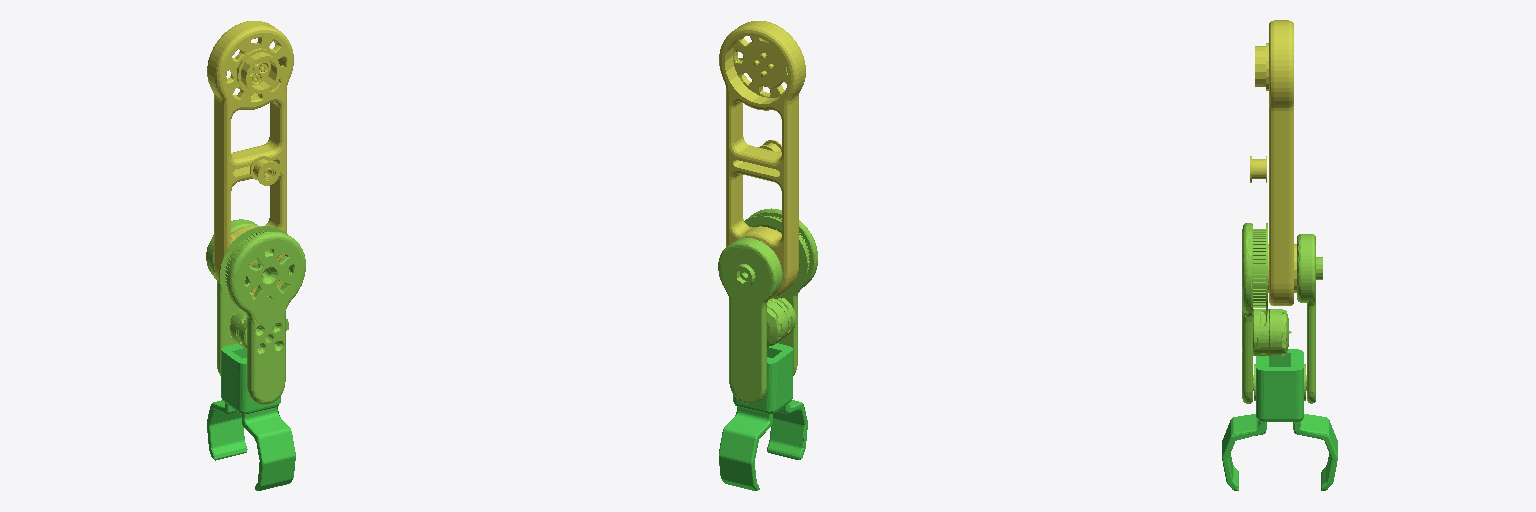
URDF robot description (hextilt_flying_arm_5):
<?xml version="1.0" encoding="utf-8"?>
<robot name="hextilt_flying_arm_5">
  <link name="hextilt__base_link">
    <inertial>
      <origin xyz="-0.0054412 0.003948 -0.0087555" />
      <mass value="1.0194" />
      <inertia ixx="0.0015891"
        ixy="-3.0072E-06"
        ixz="-4.0534E-07"
        iyy="0.0015947"
        iyz="2.85E-06"
        izz="0.0029281" />
    </inertial>
    <visual>
      <origin xyz="0 0 0" rpy="0 0 0" />
      <geometry>
        <mesh filename="package://hidro_robots/robots/hextilt_flying_arm_5/meshes/hextilt.dae" />
      </geometry>
      <material name="">
        <color rgba="0.8471 0.6078 0.3412 1" />
      </material>
    </visual>
    <collision>
      <origin xyz="0 0 0" rpy="0 0 0" />
      <geometry>
        <mesh filename="package://hidro_robots/robots/hextilt_flying_arm_5/meshes/hextilt.dae" />
      </geometry>
    </collision>
  </link>

  <link name="flying_arm_5__base_link">
    <inertial>
      <origin xyz="5.4471E-05 0.00055544 0.0045971" rpy="0 0 0" />
      <mass value="0.27973" />
      <inertia ixx="0.00010284" ixy="5.704E-10" ixz="7.6592E-09" iyy="7.9509E-05" iyz="5.7105E-10" izz="9.2151E-05" />
    </inertial>
    <visual>
      <origin xyz="0 0 0" rpy="0 0 0" />
      <geometry>
        <mesh filename="package://hidro_robots/robots/hextilt_flying_arm_5/meshes/base_link.dae" />
      </geometry>
      <material name="">
        <color rgba="0.8471 0.6078 0.3412 1" />
      </material>
    </visual>
    <collision>
      <origin xyz="0 0 0" rpy="0 0 0" />
      <geometry>
        <mesh filename="package://hidro_robots/robots/hextilt_flying_arm_5/meshes/base_link.dae" />
      </geometry>
    </collision>
  </link>

  <joint name="flying_arm_5__j_base_link" type="fixed">
    <origin xyz="0.0 0 -0.0516" rpy="0 0 0" />
    <parent link="hextilt__base_link" />
    <child link="flying_arm_5__base_link" />
    <axis xyz="0 0 0" />
  </joint>

  <link name="flying_arm_5__link_1">
    <inertial>
      <origin xyz="0.097289 5.2467E-05 -0.012147" rpy="0 0 0" />
      <mass value="0.12284" />
      <inertia ixx="2.3846E-05" ixy="-5.0883E-13" ixz="3.5276E-06" iyy="0.00021635" iyz="-1.2916E-12" izz="0.00023624" />
    </inertial>
    <visual>
      <origin xyz="0 0 0" rpy="0 0 0" />
      <geometry>
        <mesh filename="package://hidro_robots/robots/hextilt_flying_arm_5/meshes/link_1.dae" />
      </geometry>
      <material name="">
        <color rgba="0.8314 0.8471 0.3412 1" />
      </material>
    </visual>
    <collision>
      <origin xyz="0 0 0" rpy="0 0 0" />
      <geometry>
        <mesh filename="package://hidro_robots/robots/hextilt_flying_arm_5/meshes/link_1.dae" />
      </geometry>
    </collision>
  </link>

  <joint name="flying_arm_5__j_base_link_link_1" type="revolute">
    <origin xyz="0 0 0" rpy="1.5708 1.5708 0" />
    <parent link="flying_arm_5__base_link" />
    <child link="flying_arm_5__link_1" />
    <axis xyz="0 0 1" />
    <limit effort="1" lower="-1.6707963267948966" upper="1.6707963267948966" velocity="10000" />
    <dynamics damping="0.1" friction="0.1" />
  </joint>

  <link name="flying_arm_5__link_2">
    <inertial>
      <origin xyz="0.043238 2.4308E-05 -0.0087926" rpy="0 0 0" />
      <mass value="0.11474" />
      <inertia ixx="1.174E-05" ixy="1.3294E-09" ixz="-2.0499E-06" iyy="4.7747E-05" iyz="-1.6102E-08" izz="5.2344E-05" />
    </inertial>
    <visual>
      <origin xyz="0 0 0" rpy="0 0 0" />
      <geometry>
        <mesh filename="package://hidro_robots/robots/hextilt_flying_arm_5/meshes/link_2.dae" />
      </geometry>
      <material name="">
        <color rgba="0.5804 0.8471 0.3412 1"/>
      </material>
    </visual>
    <collision>
      <origin xyz="0 0 0" rpy="0 0 0" />
      <geometry>
        <mesh filename="package://hidro_robots/robots/hextilt_flying_arm_5/meshes/link_2.dae" />
      </geometry>
    </collision>
  </link>

  <joint name="flying_arm_5__j_link_1_link_2" type="revolute">
    <origin xyz="0.132 0 0" rpy="0 0 0" />
    <parent link="flying_arm_5__link_1" />
    <child link="flying_arm_5__link_2" />
    <axis xyz="0 0 1" />
    <limit effort="1" lower="-1.6707963267948966" upper="1.6707963267948966" velocity="10000" />
    <dynamics damping="0.1" friction="0.1" />
  </joint>

  <link name="flying_arm_5__link_3">
    <inertial>
      <origin xyz="0.00020827 -0.0031223 -0.011966" rpy="0 0 0" />
      <mass value="0.068772" />
      <inertia ixx="6.8293E-06" ixy="4.2309E-08" ixz="1.548E-09" iyy="7.2432E-06" iyz="1.6138E-08" izz="7.1043E-06" />
    </inertial>
    <visual>
      <origin xyz="0 0 0" rpy="0 0 0" />
      <geometry>
        <mesh filename="package://hidro_robots/robots/hextilt_flying_arm_5/meshes/link_3.dae" />
      </geometry>
      <material name="">
        <color rgba="0.3412 0.8471 0.3569 1"/>
      </material>
    </visual>
    <collision>
      <origin xyz="0 0 0" rpy="0 0 0" />
      <geometry>
        <mesh filename="package://hidro_robots/robots/hextilt_flying_arm_5/meshes/link_3.dae" />
      </geometry>
    </collision>
  </link>

  <joint name="flying_arm_5__j_link_2_link_3" type="revolute">
    <origin xyz="0.075 0 0" rpy="0 0 0" />
    <parent link="flying_arm_5__link_2" />
    <child link="flying_arm_5__link_3" />
    <axis xyz="0 0 1" />
    <limit effort="0.3" lower="-1.6707963267948966" upper="1.6707963267948966" velocity="10000"/>
    <dynamics damping="0.1" friction="0.1"/>
  </joint>

  <link name="flying_arm_5__link_4">
    <inertial>
      <origin xyz="0.026125 2.9724E-09 0.0016875" rpy="0 0 0" />
      <mass value="0.05914" />
      <inertia ixx="2.2712E-05" ixy="2.3256E-12" ixz="5.2509E-09" iyy="2.472E-05" iyz="3.3225E-09" izz="1.0444E-05" />
    </inertial>
    <visual>
      <origin xyz="0 0 0" rpy="0 0 0" />
      <geometry>
        <mesh filename="package://hidro_robots/robots/hextilt_flying_arm_5/meshes/link_4.dae" />
      </geometry>
      <material name="">
        <color rgba="0.09020 0.54902 0.509804 1" />
      </material>
    </visual>
    <collision>
      <origin xyz="0 0 0" rpy="0 0 0" />
      <geometry>
        <mesh filename="package://hidro_robots/robots/hextilt_flying_arm_5/meshes/link_4.dae" />
      </geometry>
    </collision>
  </link>

  <joint name="flying_arm_5__j_link_3_link_4" type="revolute">
    <origin xyz="0 0 -0.011925" rpy="1.5708 0 0" />
    <parent link="flying_arm_5__link_3" />
    <child link="flying_arm_5__link_4" />
    <axis xyz="0 0 1" />
    <limit effort="0.3" lower="-1.6707963267948966" upper="1.6707963267948966" velocity="10000"/>
    <dynamics damping="0.1" friction="0.1"/>
  </joint>

  <link name="flying_arm_5__link_5">
    <inertial>
      <origin xyz="1.7347E-18 -1.0246E-17 0.025817" rpy="0 0 0" />
      <mass value="0.021791" />
      <inertia ixx="7.9107E-06" ixy="1.6653E-13" ixz="2.9904E-21" iyy="1.5446E-05" iyz="-1.1963E-21" izz="1.0818E-05" />
    </inertial>
    <visual>
      <origin xyz="0 0 0" rpy="0 0 0" />
      <geometry>
        <mesh filename="package://hidro_robots/robots/hextilt_flying_arm_5/meshes/link_5.dae" />
      </geometry>
      <material name="">
        <color rgba="0.12549 0.37647 0.15686 1" />
      </material>
    </visual>
    <collision>
      <origin xyz="0 0 0" rpy="0 0 0" />
      <geometry>
        <mesh filename="package://hidro_robots/robots/hextilt_flying_arm_5/meshes/link_5.dae" />
      </geometry>
    </collision>
  </link>

  <joint name="flying_arm_5__j_link_4_link_5" type="revolute">
    <origin xyz="0.034 0 -0.00025" rpy="1.5708 0 1.5708" />
    <parent link="flying_arm_5__link_4" />
    <child link="flying_arm_5__link_5" />
    <axis xyz="0 0 1" />
    <limit effort="0.3" lower="-1.6707963267948966" upper="1.6707963267948966" velocity="10000"/>
    <dynamics damping="0.1" friction="0.1"/>
  </joint>

  <link name="flying_arm_5__gripper">
    <inertial>
      <origin rpy="0 0 0" xyz="0.0 0.0 0.0"/>
      <mass value="0.0"/>
      <inertia ixx="0.0" ixy="0.0" ixz="0.0" iyy="0.0" iyz="0.0" izz="0.0"/>
    </inertial>
  </link>

  <joint name="flying_arm_5__j_link_5_gripper" type="fixed">
    <origin rpy="0 0 0" xyz="0.00 0 0.06"/>
    <parent link="flying_arm_5__link_5"/>
    <child link="flying_arm_5__gripper"/>
    <axis xyz="0 0 1"/>
  </joint>

</robot>

--- Render facts (derived) ---
The picture shows the robot from 3 angles, left to right: view 1: azimuth 30°, elevation 25°; view 2: azimuth 150°, elevation 25°; view 3: azimuth 270°, elevation 25°; orthographic projection.
Robot: hextilt_flying_arm_5 — 8 links, 7 joints (5 revolute, 2 fixed); root link hextilt__base_link; default pose: all joints at 0.
Visible links, largest first — view 1: flying_arm_5__link_1, flying_arm_5__link_2, flying_arm_5__link_3; view 2: flying_arm_5__link_1, flying_arm_5__link_2, flying_arm_5__link_3; view 3: flying_arm_5__link_1, flying_arm_5__link_2, flying_arm_5__link_3.
Link boxes in pixels (left/top/right/bottom): flying_arm_5__link_1: left=207, top=21, right=293, bottom=295; flying_arm_5__link_2: left=206, top=219, right=305, bottom=404; flying_arm_5__link_3: left=207, top=343, right=295, bottom=490; flying_arm_5__link_1: left=719, top=21, right=805, bottom=298; flying_arm_5__link_2: left=718, top=208, right=817, bottom=403; flying_arm_5__link_3: left=719, top=343, right=807, bottom=490; flying_arm_5__link_1: left=1250, top=20, right=1296, bottom=305; flying_arm_5__link_2: left=1242, top=223, right=1322, bottom=403; flying_arm_5__link_3: left=1222, top=349, right=1337, bottom=490.
Size in the robot's own frame: 0.055 by 0.0689 by 0.3005 metres.
Meshes: 7 distinct files referenced, 3 mesh visuals loaded (3 Collada DAE); not drawn: 4 (reference not matched to a file when rendering).